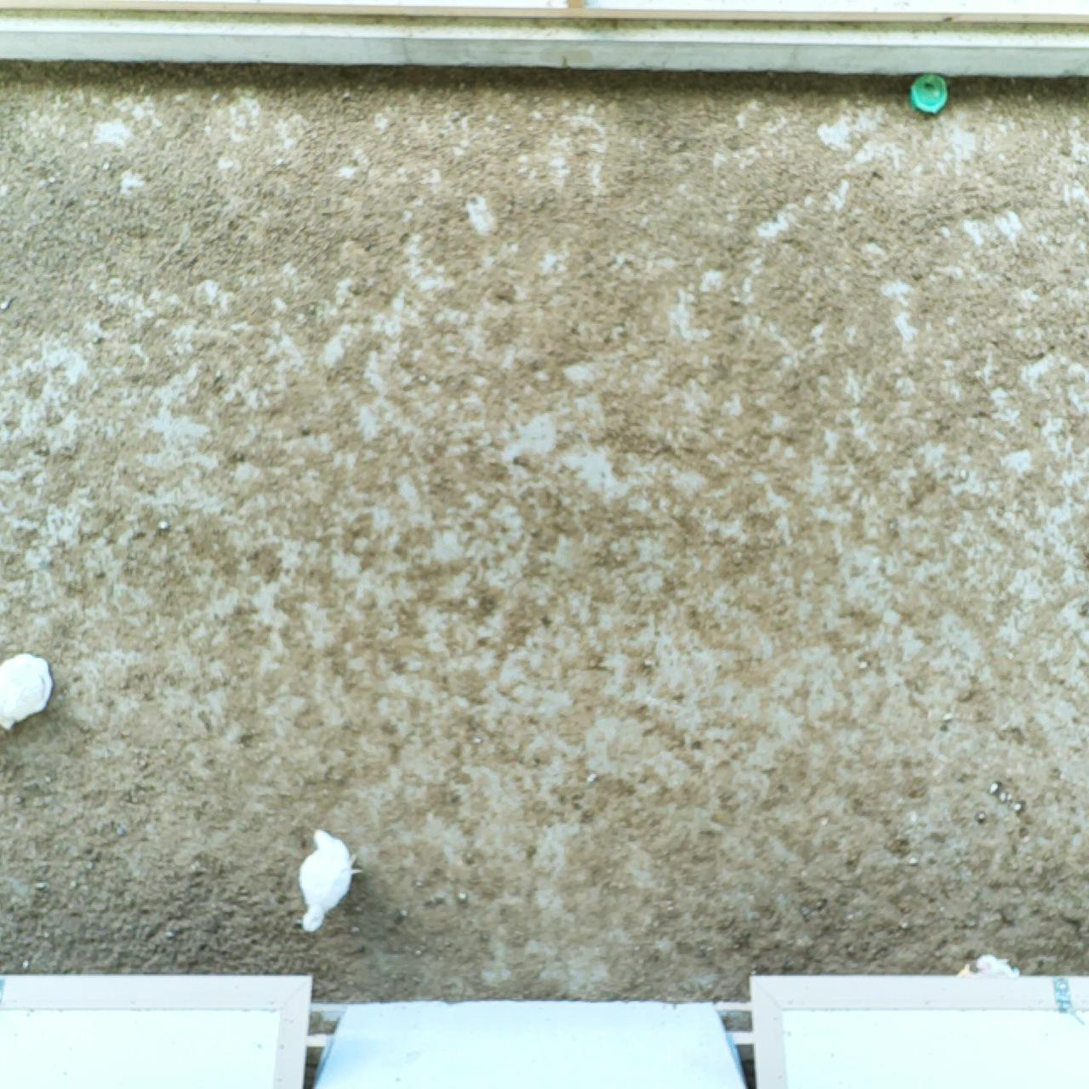chicken: (293, 821, 366, 937), (0, 646, 57, 733), (948, 949, 1023, 984)
